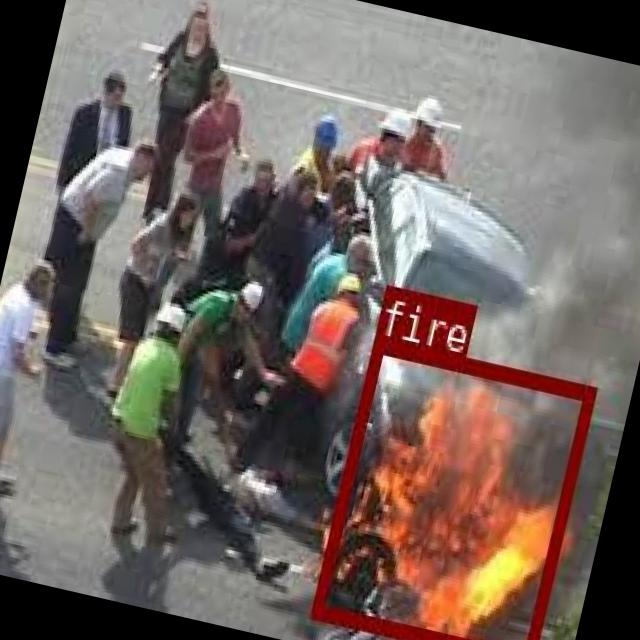fire: (310, 336, 593, 640)
